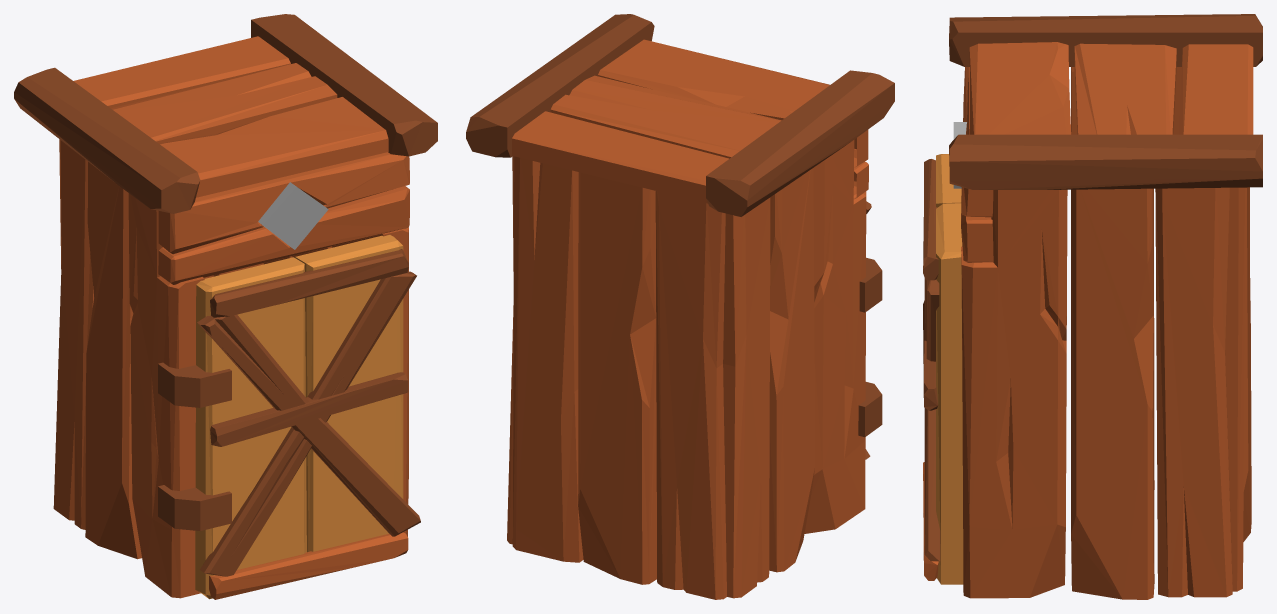
Rendered from lift.fbx.
3 renders of one model, left to right at view 1: azimuth 30°, elevation 25°; view 2: azimuth 150°, elevation 25°; view 3: azimuth 270°, elevation 25°, orthographic. The views are drawn at different scales.
Visible parts, largest first — view 1: pasted__pasted__Privy, pCube7; view 2: pasted__pasted__Privy; view 3: pasted__pasted__Privy.
Part boxes in pixels (left/top/right/bottom): pasted__pasted__Privy: left=14, top=14, right=437, bottom=599; pCube7: left=258, top=182, right=328, bottom=249; pasted__pasted__Privy: left=466, top=14, right=894, bottom=599; pasted__pasted__Privy: left=923, top=14, right=1262, bottom=599.
Size of the model in its own units: 173 by 252 by 171.
